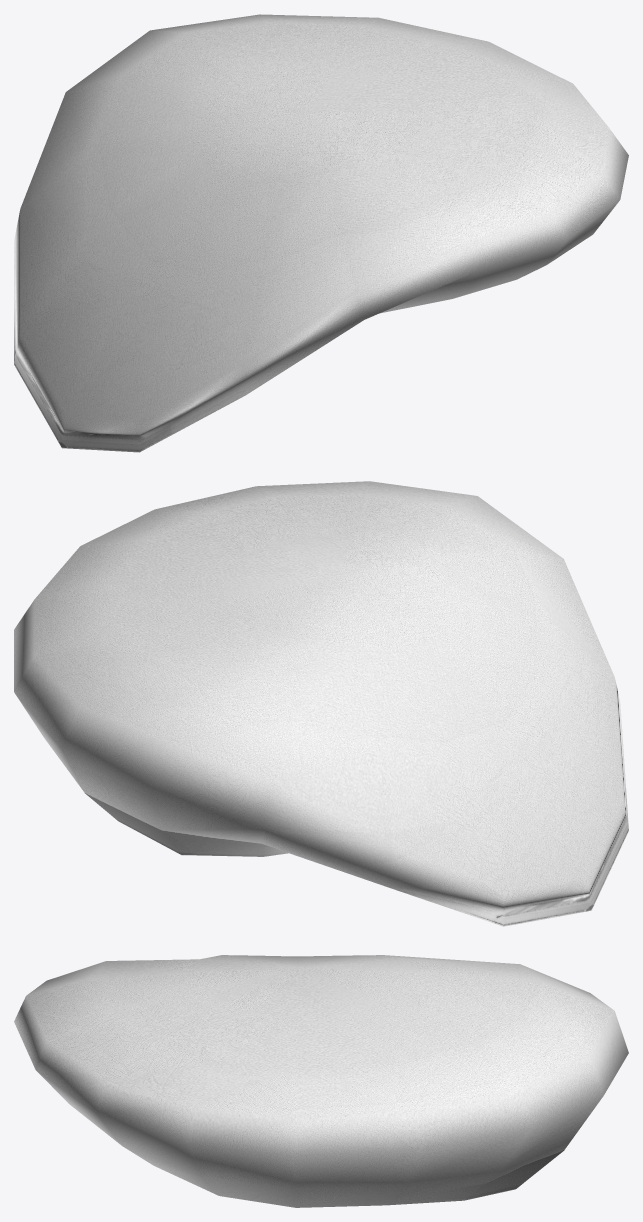
Rendered from beret.glb.
3 renders of one model, top to bottom at view 1: azimuth 30°, elevation 25°; view 2: azimuth 150°, elevation 25°; view 3: azimuth 270°, elevation 25°, orthographic. The views are drawn at different scales.
Visible parts, largest first — view 1: Beret; view 2: Beret; view 3: Beret.
Boxes of the visible parts, box(x1,y1,x2,y2) form: Beret: box(14, 14, 628, 452); Beret: box(14, 481, 628, 926); Beret: box(14, 955, 628, 1207).
Size of the model in its own units: 12.27 by 6.05 by 13.15.
Materials: 1 (1 with a texture image).
